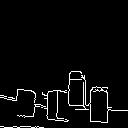cube: (88, 84, 115, 126), (65, 70, 89, 113), (11, 85, 39, 121)
